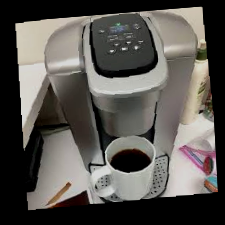10oz: (120, 47, 129, 53)
12oz: (132, 46, 141, 52)
4oz: (111, 42, 120, 48)
6oz: (124, 40, 133, 46)
8oz: (107, 48, 116, 54)
